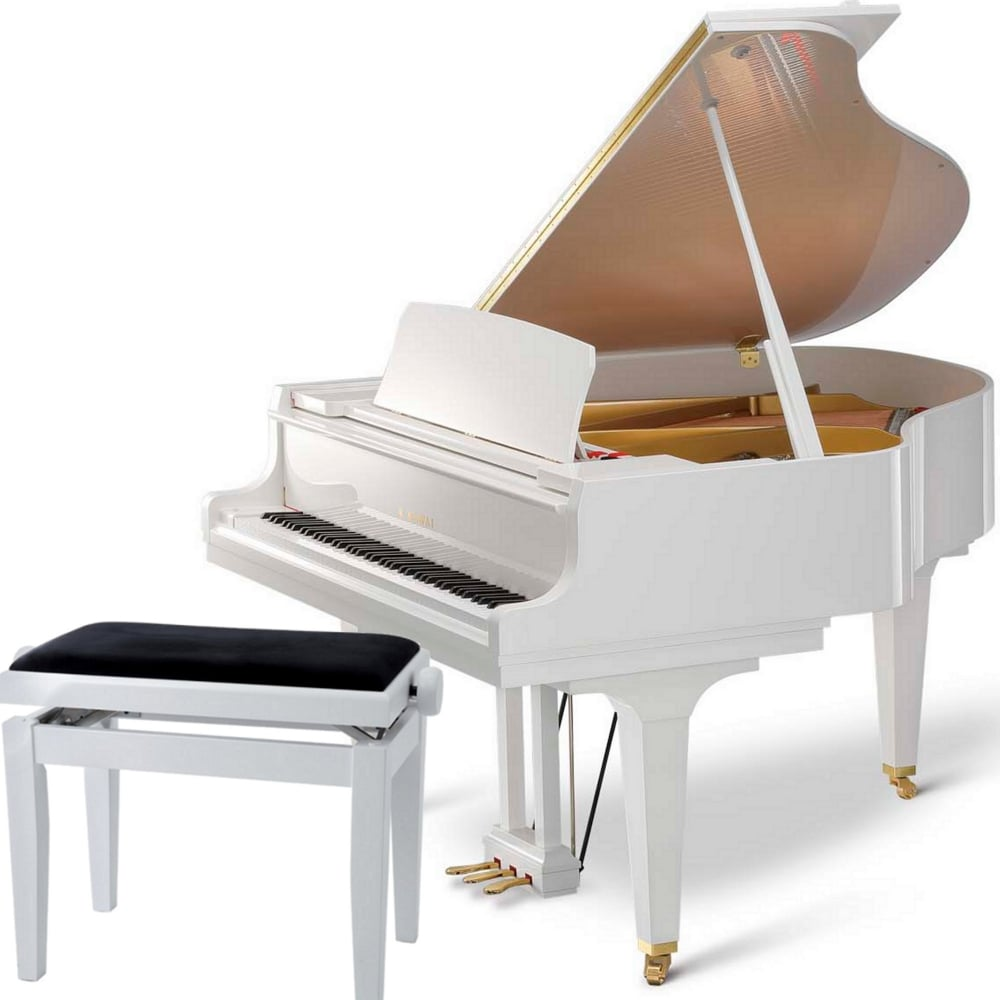GrandPiano: (290, 238, 1000, 634)
